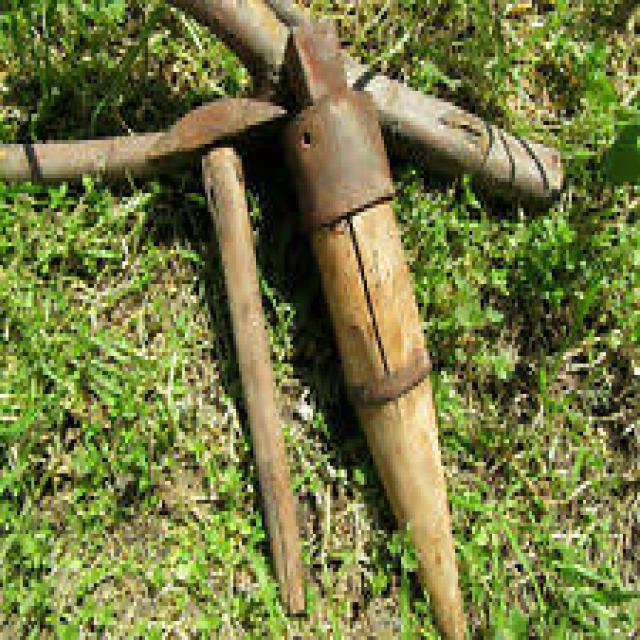hammer: (142, 79, 319, 622)
